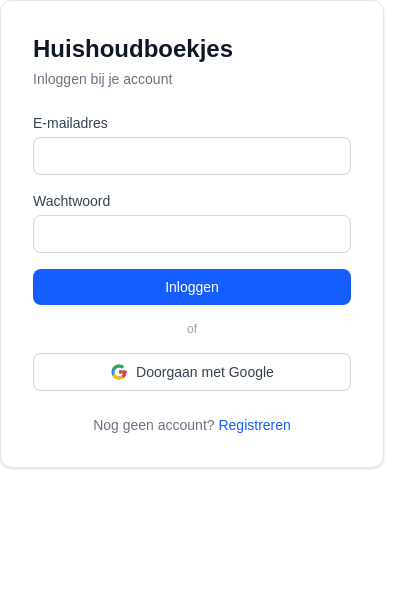
Scenario: LoginForm › sign-up submission › shows a friendly error when the email is already in use
The image size is (401, 600).
Click the button "Registreren": (255, 425) [218, 415, 291, 435]
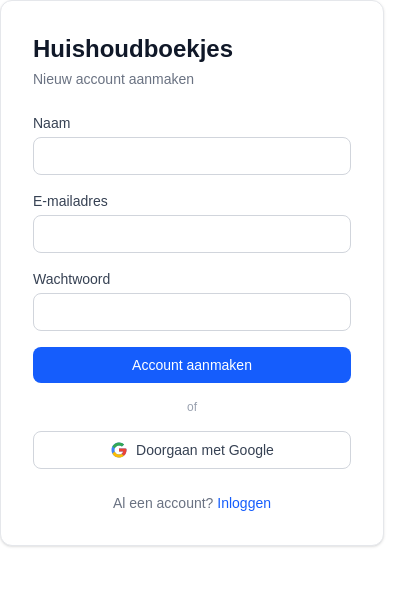
Result: the text "Naam" is shown at [33, 115, 70, 131]
In the field below "Naam": (192, 156) [33, 137, 351, 175], type "Test Naam"
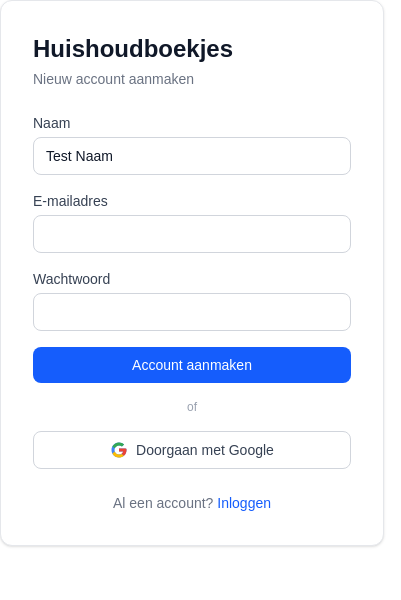
In the field below "E-mailadres": (192, 234) [33, 215, 351, 253], type "taken@example.com"
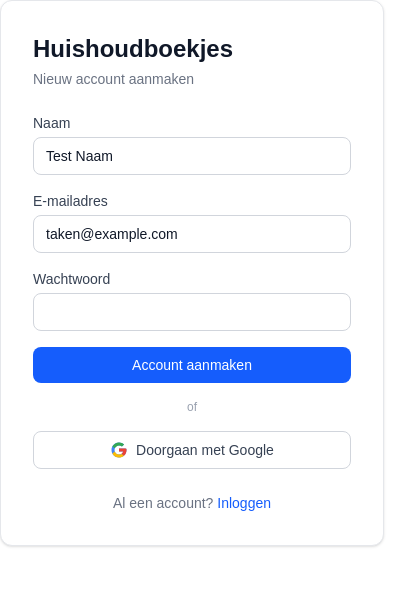
In the password field: (192, 312) [33, 293, 351, 331], type "pass123"
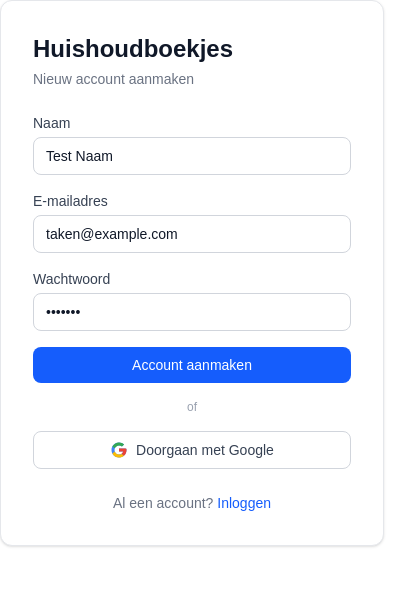
Click the button "Account aanmaken": (192, 365) [33, 347, 351, 383]
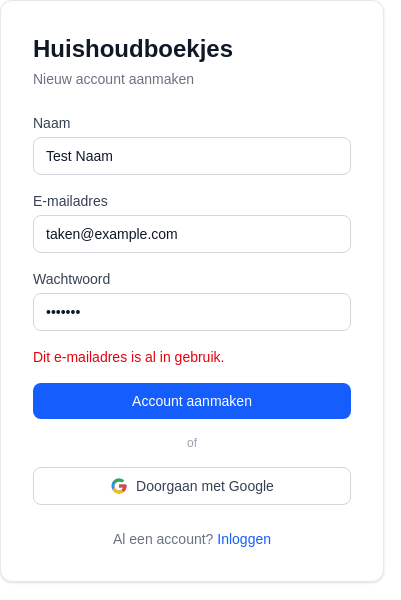
Result: the text "Dit e-mailadres is al in gebruik." is shown at [33, 349, 224, 365]
